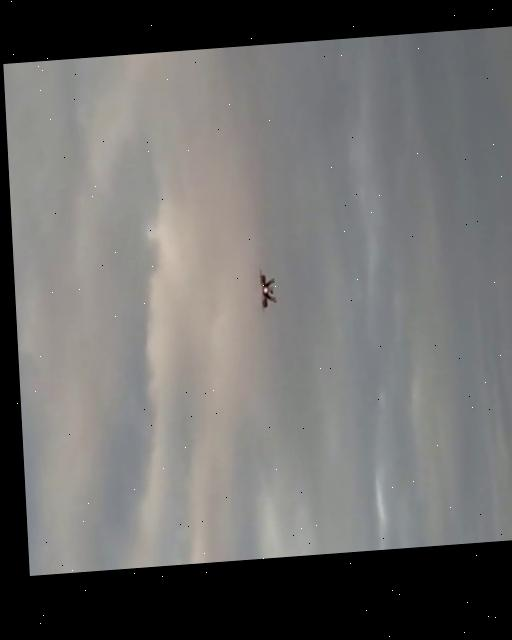drone: (249, 271, 276, 314)
